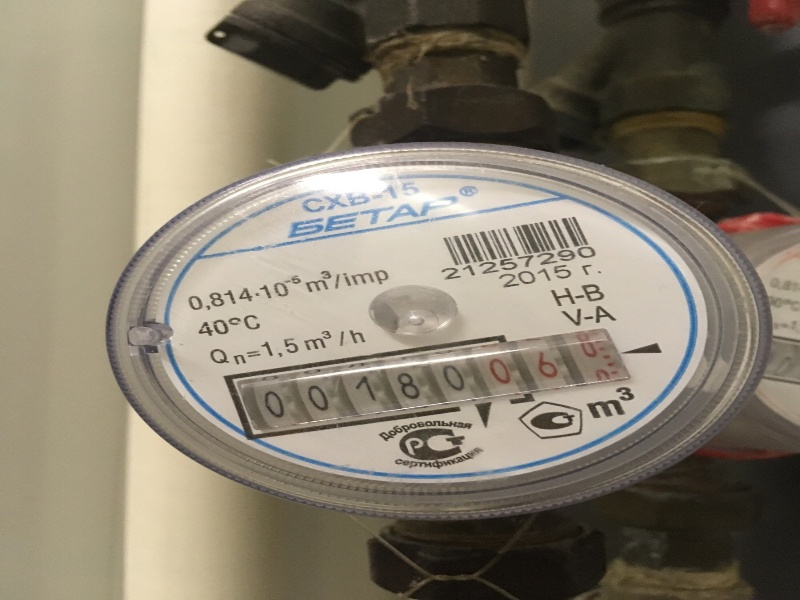meter: (225, 348, 638, 402)
